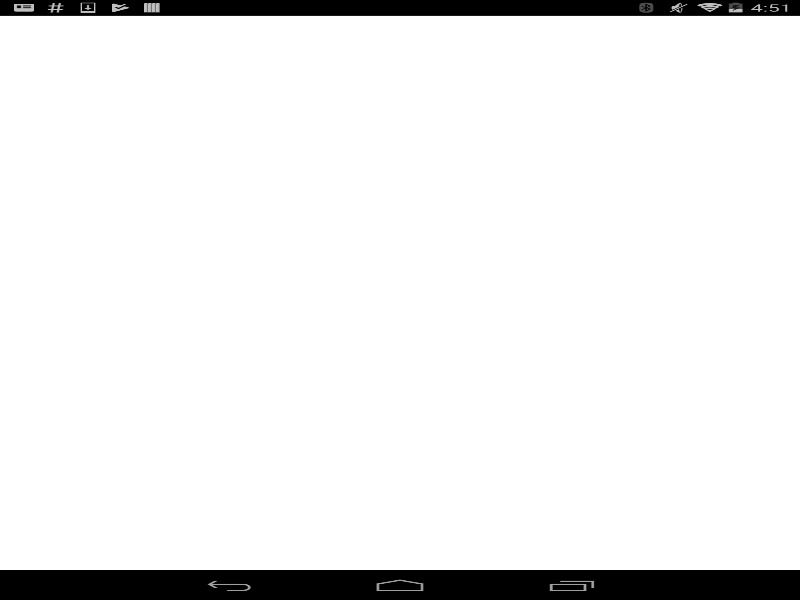Button: (170, 316, 629, 343)
Input: (170, 283, 629, 310), (170, 252, 629, 278)
